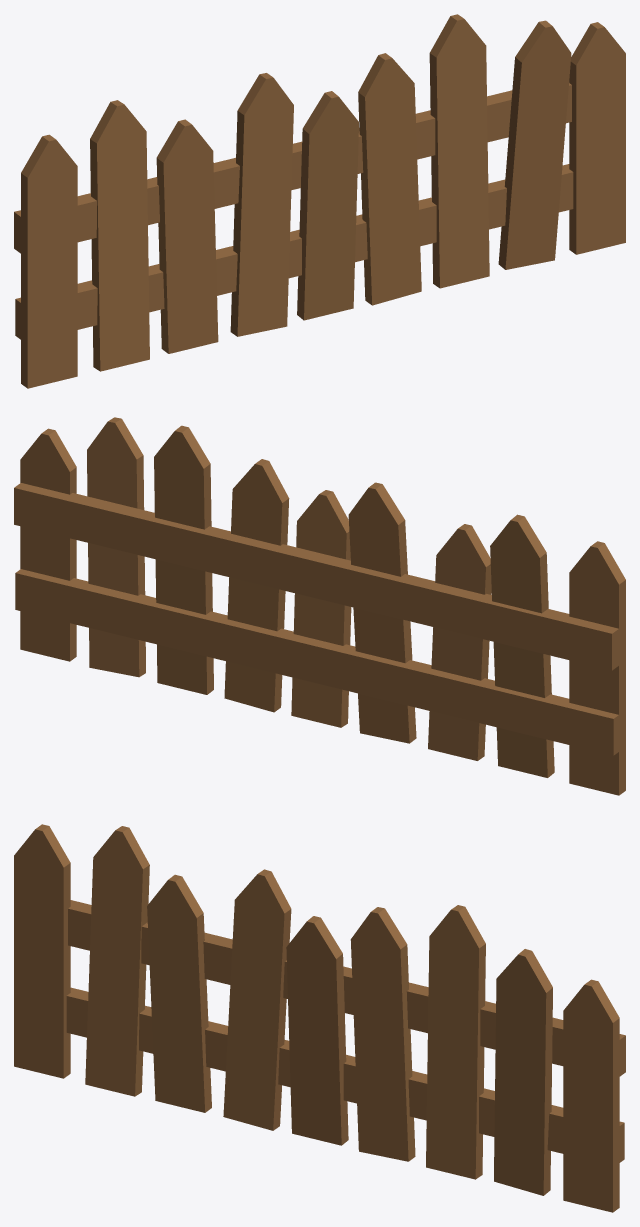
File: fens.fbx
3 renders of one model, top to bottom at view 1: azimuth 30°, elevation 25°; view 2: azimuth 150°, elevation 25°; view 3: azimuth 330°, elevation 25°, orthographic.
Visible parts, largest first — view 1: plank; view 2: plank; view 3: plank.
Part boxes in pixels (left/top/right/bottom): plank: left=14, top=14, right=625, bottom=388; plank: left=14, top=417, right=625, bottom=795; plank: left=14, top=824, right=625, bottom=1212.
Size of the model in its own units: 2408 by 1004 by 146.
